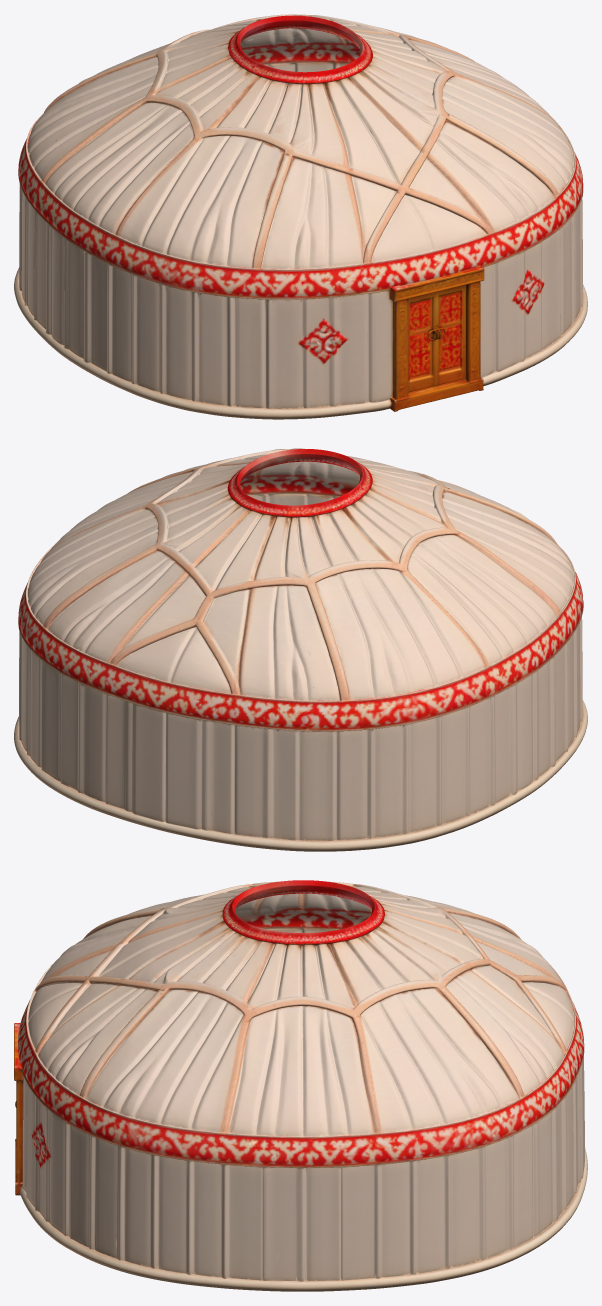
Rendered from aigine-felt.glb.
3 renders of one model, top to bottom at view 1: azimuth 30°, elevation 25°; view 2: azimuth 150°, elevation 25°; view 3: azimuth 270°, elevation 25°, orthographic. The views are drawn at different scales.
Parts seen in each view (by area): view 1: Felt exterior, Entrance_Right_Hinge, Entrance_Left_Hinge; view 2: Felt exterior; view 3: Felt exterior.
Boxes of the visible parts, box(x1,y1,x2,y2) form: Felt exterior: box(14, 14, 587, 419); Entrance_Right_Hinge: box(430, 276, 478, 400); Entrance_Left_Hinge: box(399, 285, 444, 409); Felt exterior: box(14, 448, 587, 851); Felt exterior: box(14, 880, 587, 1291).
Bounding box in the file's own units: 6.12 × 3.14 × 6.13.
Materials: 1 (1 with a texture image).
